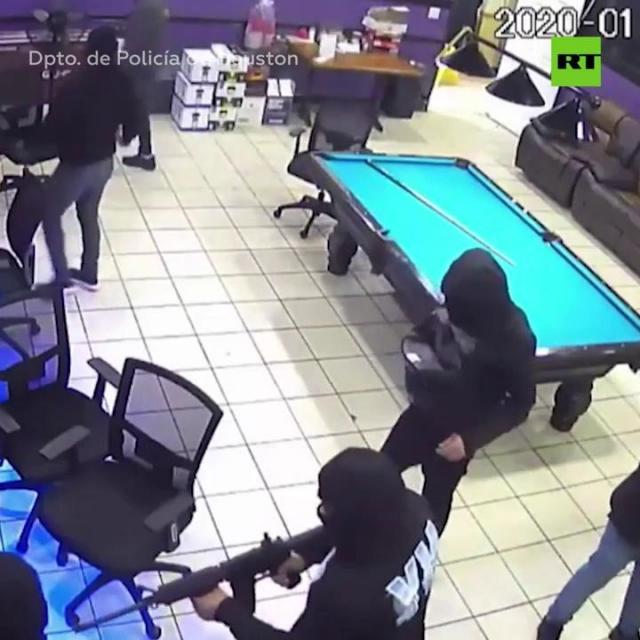weapon: (59, 523, 320, 640)
